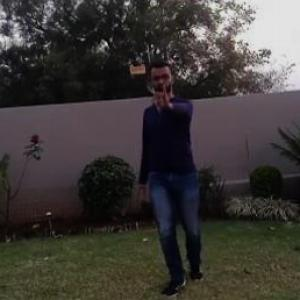takeoff-hand: (144, 80, 178, 116)
